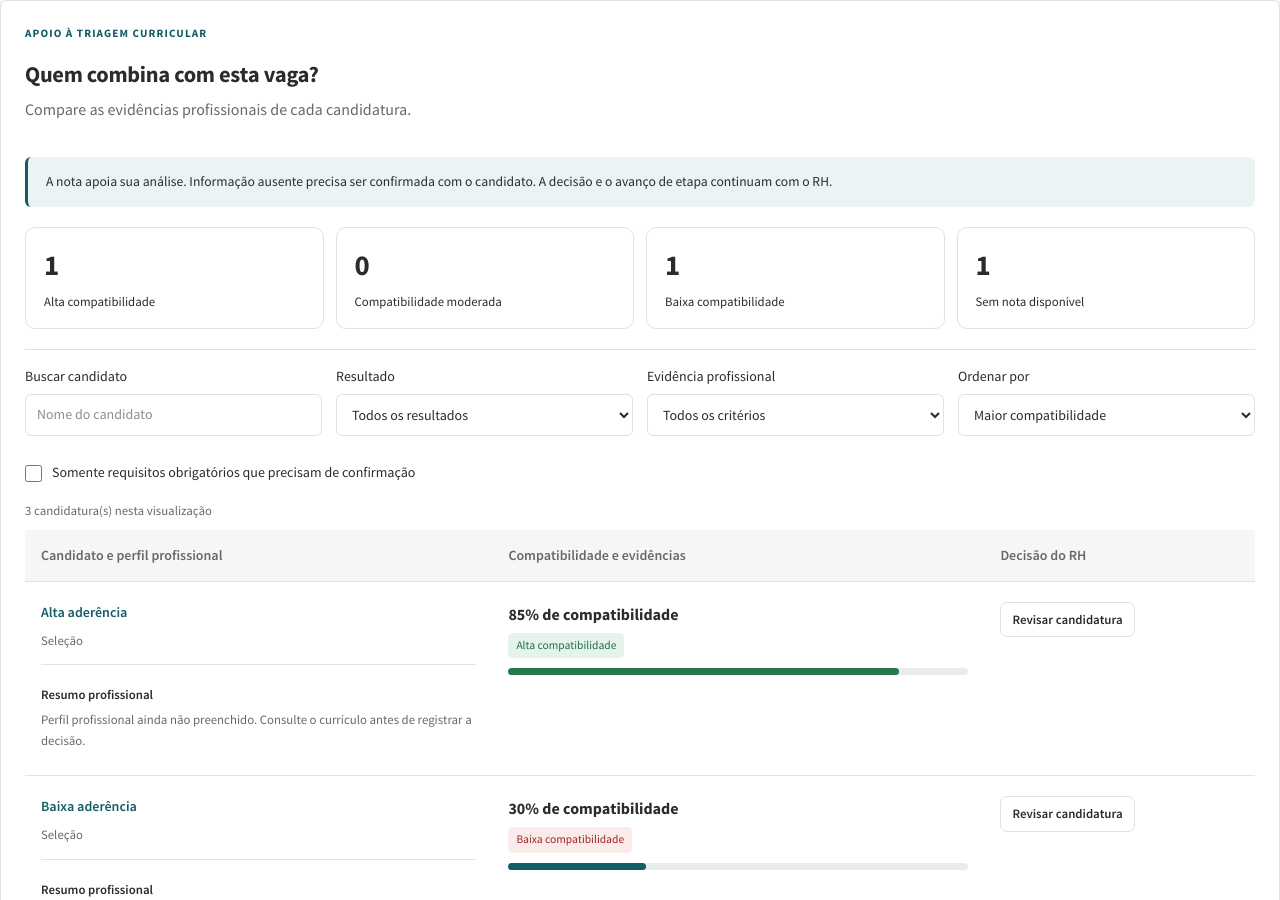
it: não classifica ausência de evidência como baixa compatibilidade e filtra resultados
Select "Revisar currículos com baixa compatibilidade" in the dropdown labelled "Resultado". click: (484, 414)
box: [336, 394, 633, 436]
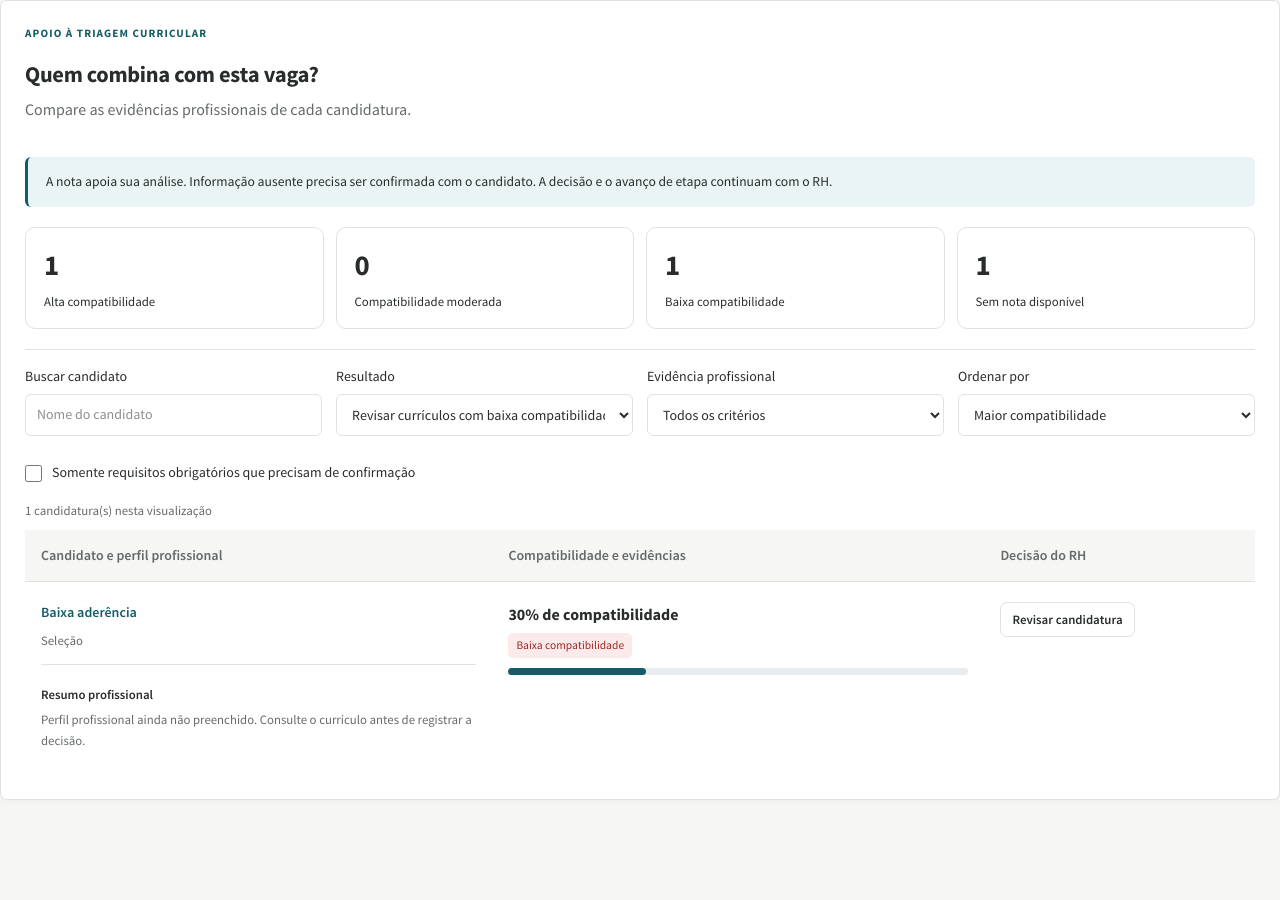
Expected: the link "Baixa aderência" is shown, [41, 603, 137, 621]
Expected: the link "Alta aderência" is gone
